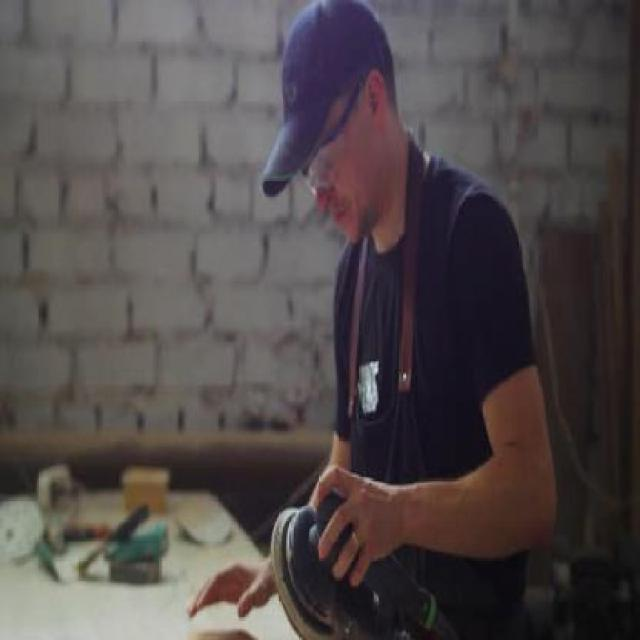face_mask: (296, 112, 358, 193)
face_nomask: (299, 138, 363, 232)
hand_noglove: (308, 462, 406, 583), (184, 550, 278, 622)
head_nohelmet: (250, 0, 382, 143)
person: (246, 0, 534, 640)
